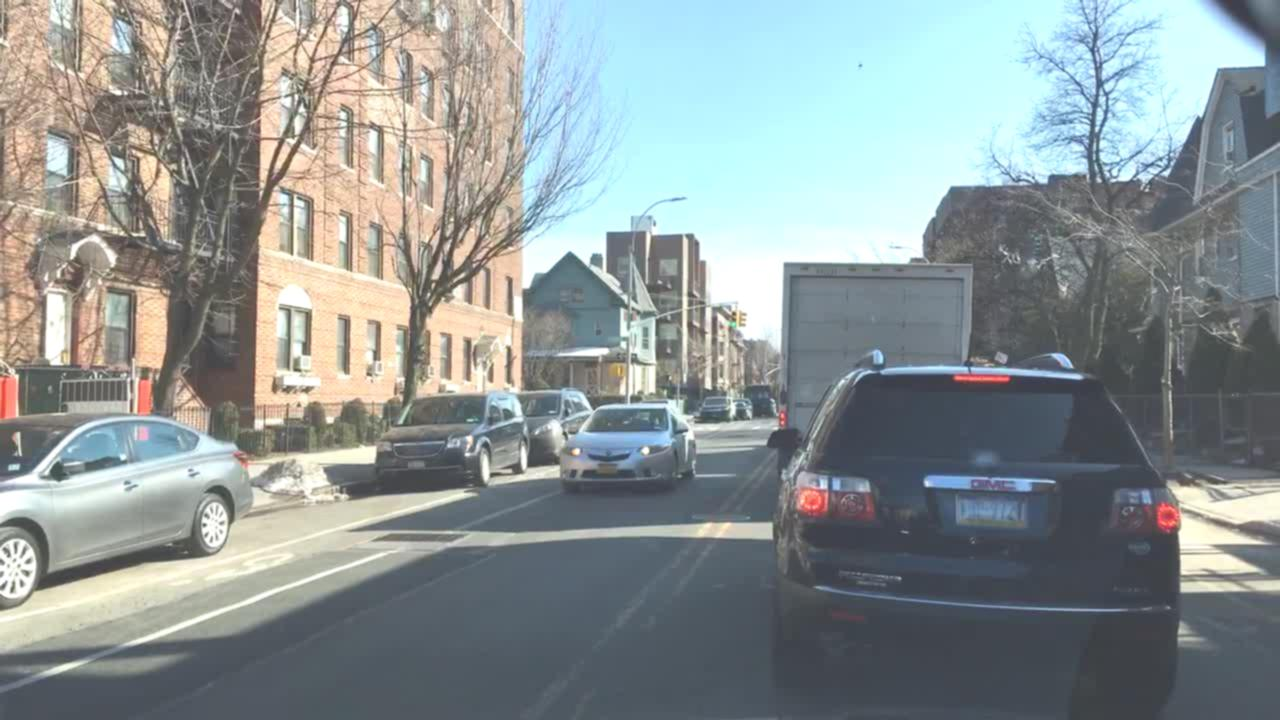GMC: (964, 474, 1032, 495)
